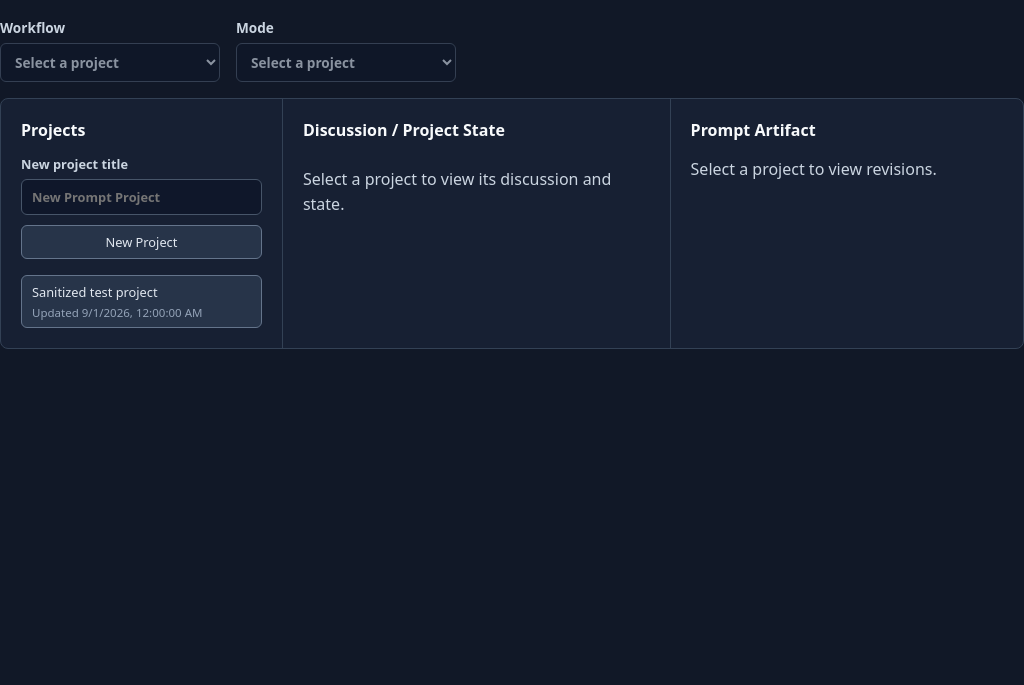
Test: Prompt Workbench persistence UI › shows an enabled Send button while discussion generation is inactive
Click the button "Sanitized test project Updated 9/1/2026, 12:00:00 AM" at coordinates (141, 302), box top-left (21, 275), bottom-right (262, 328)
(page scrolled)
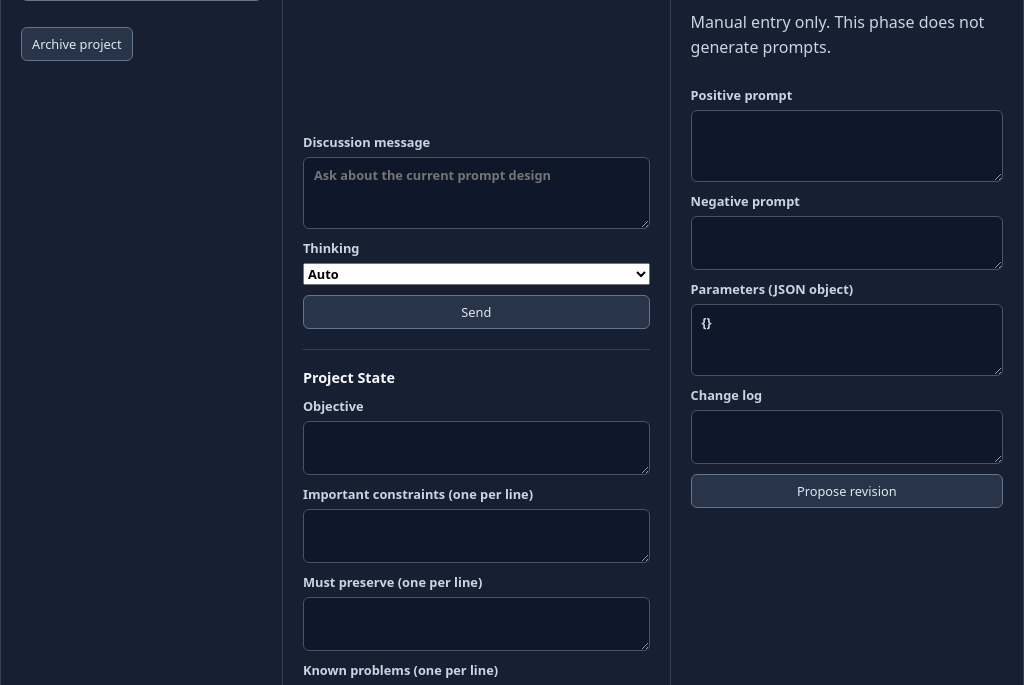
Check: the button "Send" is enabled, box top-left (303, 294), bottom-right (650, 328)
